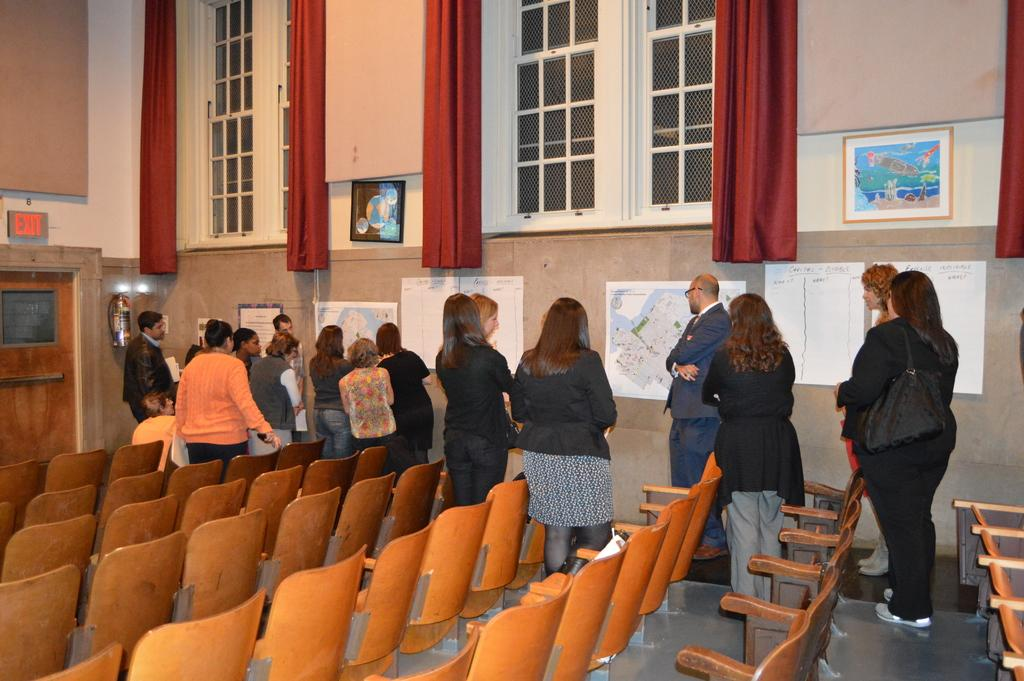Chair: (0, 432, 1023, 680), (251, 543, 368, 680)
